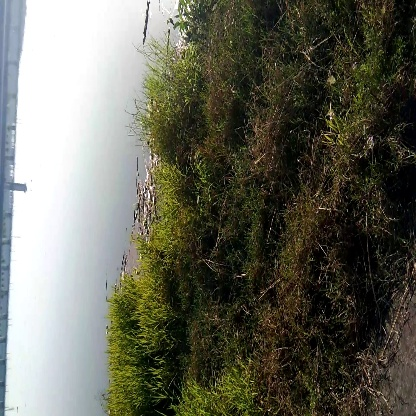grass: (118, 299, 172, 407)
